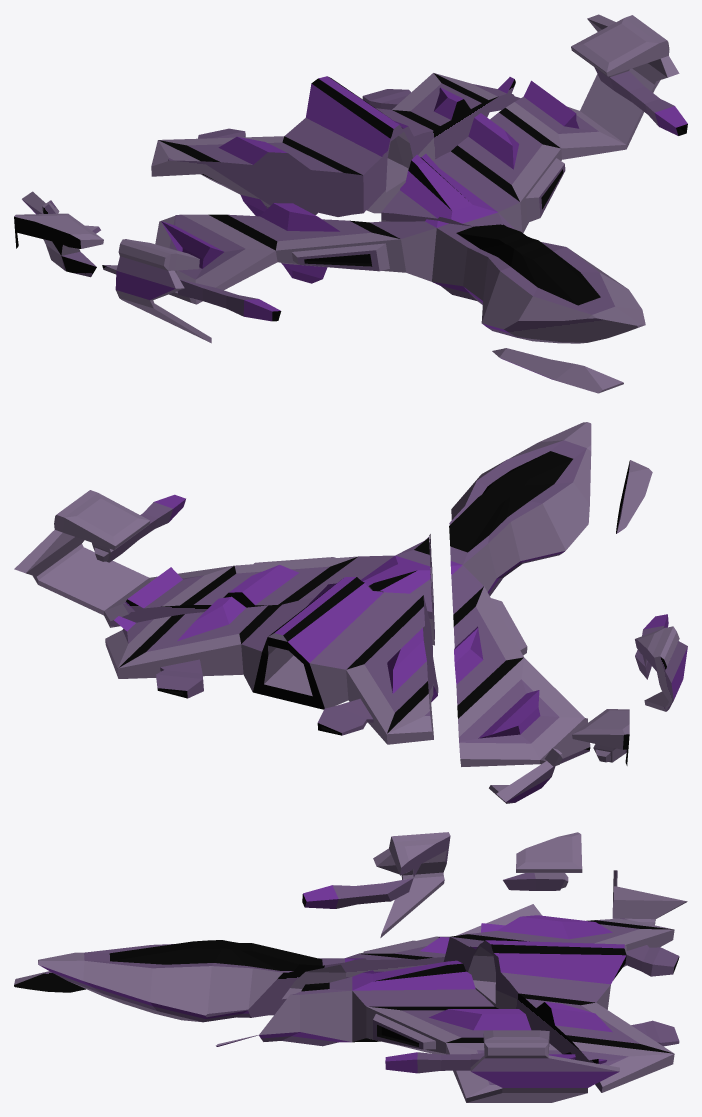
File: SpaceshipDestroyed.gltf
3 views of the same model, one above another, from view 1: azimuth 30°, elevation 25°; view 2: azimuth 150°, elevation 25°; view 3: azimuth 270°, elevation 25° (orthographic). The views are drawn at different scales.
Parts seen in each view (by area): view 1: Cube_cell.027_cell; view 2: Cube_cell.027_cell; view 3: Cube_cell.027_cell.
Boxes of the visible parts, x1,y1,x2,y2 form: Cube_cell.027_cell: [14, 14, 687, 393]; Cube_cell.027_cell: [14, 422, 687, 803]; Cube_cell.027_cell: [14, 832, 687, 1102].
Bounding box in the file's own units: 16.33 × 3.71 × 16.97.
1 material, 1 textured.
